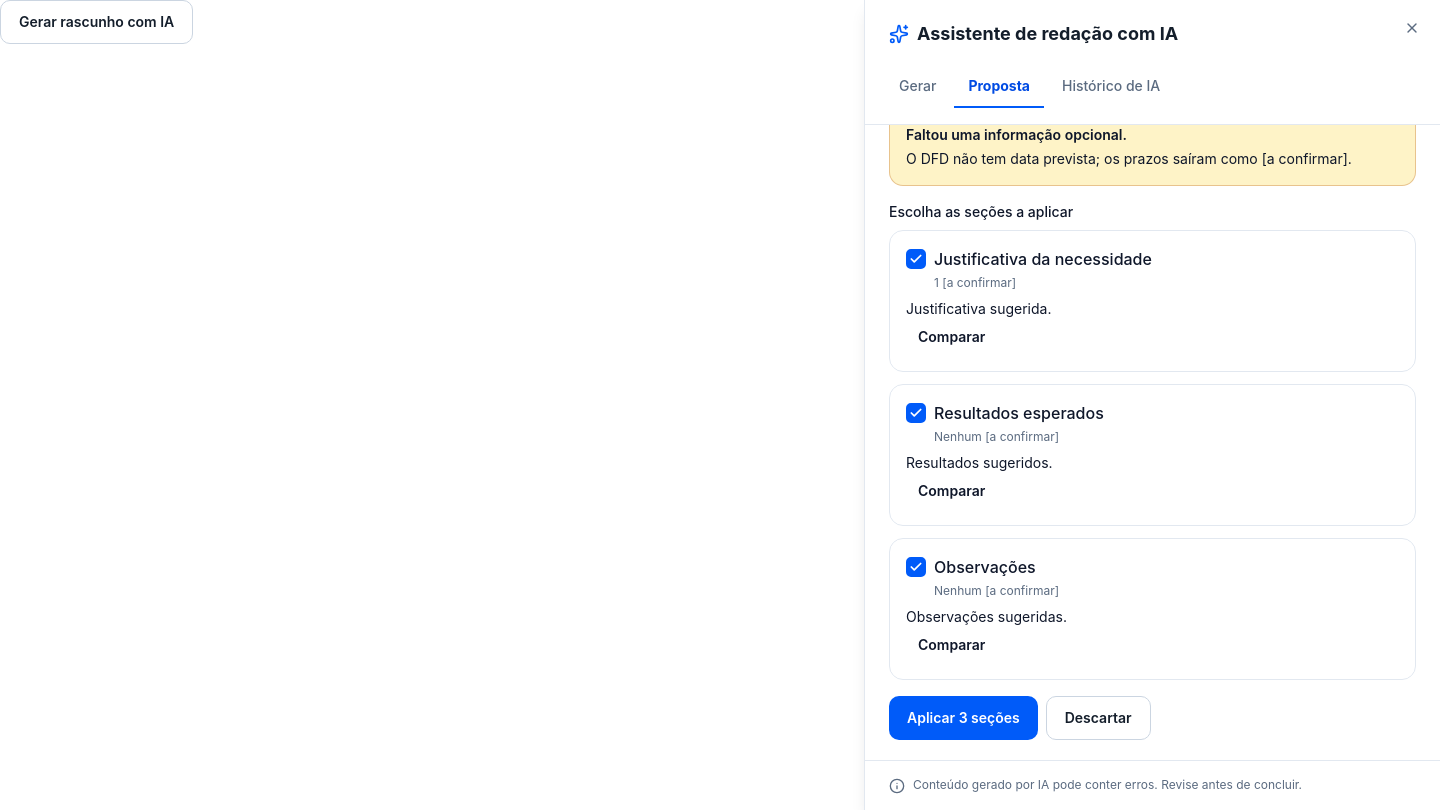
Test: SCR-117 — aplicar a proposta do DFD (US-117) › aplica as vazias (DOC-26 com If-Match e Idempotency-Key) e avisa para revisar
(page scrolled)
Check: the element "Escolha as seções a aplicar" is shown, box [889,202,1416,680]
Click the button "Aplicar 3 seções" at (963,718), box [889,696,1038,740]
(page scrolled)
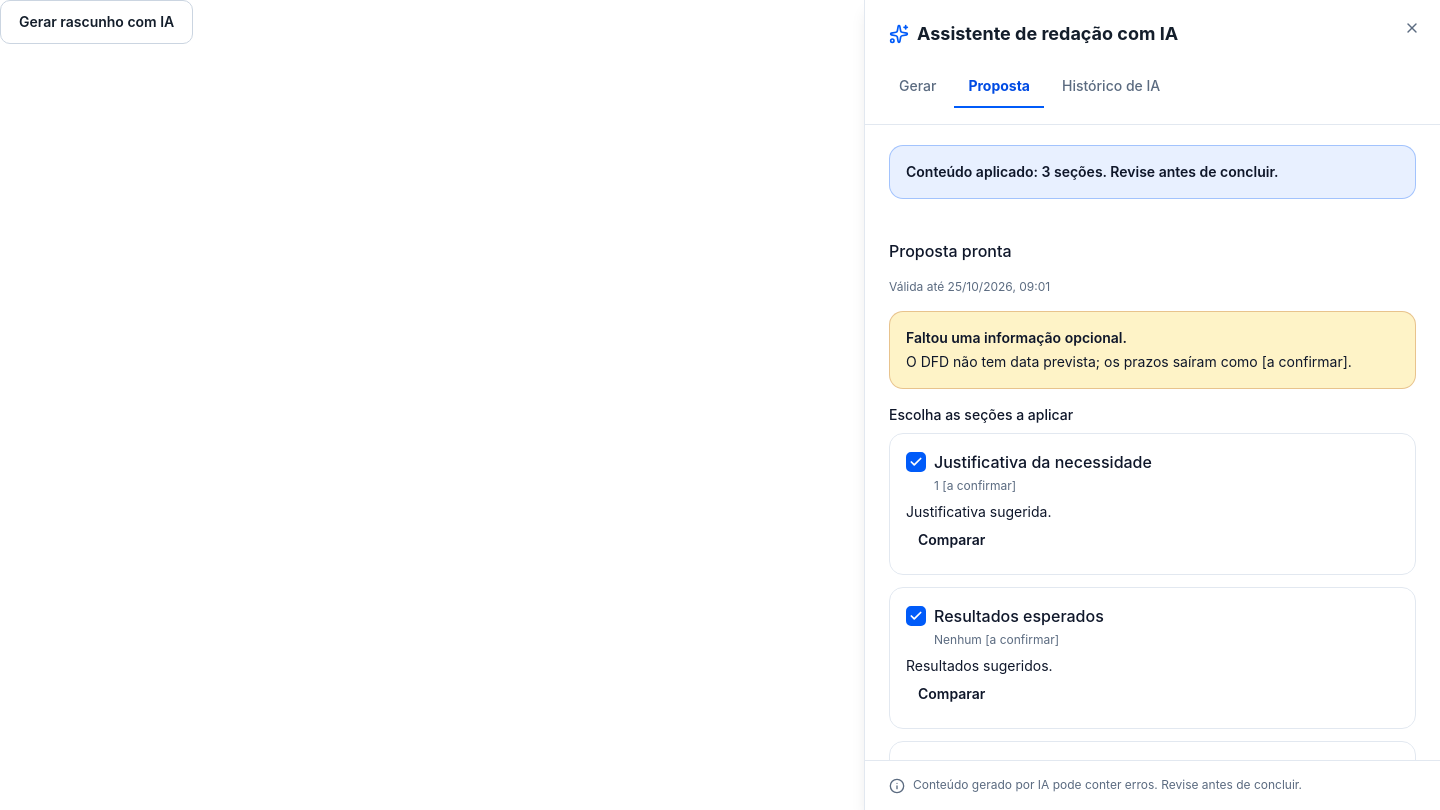
Check: the text "Conteúdo aplicado: 3 seções. Revise antes de concluir." is shown, box [906,163,1278,180]
